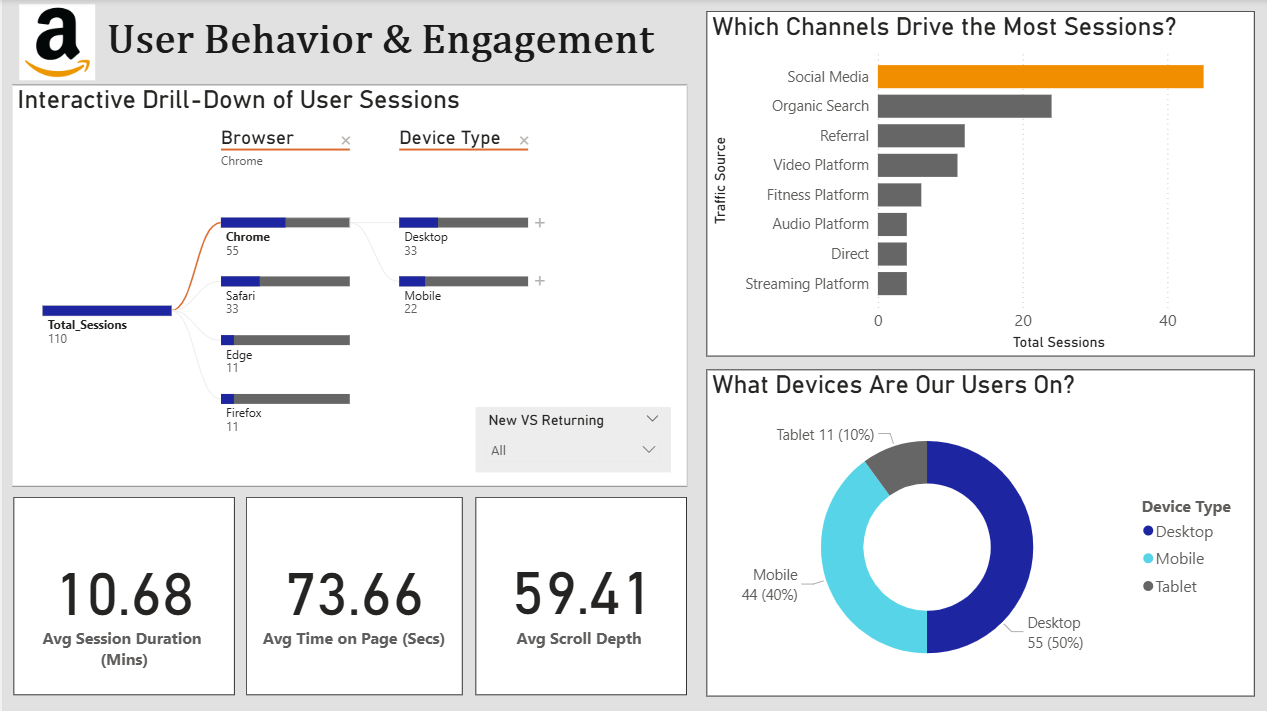

What the dashboard file says about the page in this screenshot:
{"tool":"powerbi","page":{"name":"User Behaviour and Engagement","canvas":[1280,720],"ordinal":1},"visuals":[{"type":"textbox","box":[100,11.7,590,60],"z":0},{"type":"card","fields":{"Values":["_Key Measures.Avg_page_time"]},"box":[245,503.3,218.3,200],"z":1000},{"type":"card","fields":{"Values":["_Key Measures.Avg_Scroll_Depth"]},"box":[477,502.7,213.5,199.9],"z":2000},{"type":"barChart","title":"Which Channels Drive the Most Sessions?","fields":{"Category":["Sessions.traffic_source"],"Y":["_Key Measures.No_of_sessions"]},"box":[710,11.7,553.3,348.3],"z":3000},{"type":"donutChart","title":"What Devices Are Our Users On?","fields":{"Y":["_Key Measures.Total_Sessions"],"Series":["Sessions.device_type"]},"box":[710,373.3,553.3,330],"z":4000},{"type":"decompositionTreeVisual","title":"Interactive Drill-Down of User Sessions","fields":{"Analyze":["_Key Measures.Total_Sessions"],"ExplainBy":["Sessions.browser","Sessions.device_type","Sessions.traffic_source","Sessions.new_vs_returning"]},"box":[9.1,86.3,681.4,405.8],"z":5000},{"type":"card","fields":{"Values":["_Key Measures.Avg Session Duration (Mins)"]},"box":[10,503.3,223.3,200],"z":6000},{"type":"image","box":[8.3,0,91.7,86.7],"z":7000},{"type":"slicer","fields":{"Values":["Sessions.new_vs_returning"]},"box":[477.6,411.7,197.6,65.9],"z":8000}]}

Visuals, with their boxes in screenshot pixels (x1, y1, x2, y2), scaled from the page's 1280x720 canvas onto the 1267x711 screenshot:
textbox: left=99, top=12, right=683, bottom=71
card - _Key Measures.Avg_page_time: left=243, top=497, right=459, bottom=695
card - _Key Measures.Avg_Scroll_Depth: left=472, top=496, right=683, bottom=694
"Which Channels Drive the Most Sessions?" barChart: left=703, top=12, right=1250, bottom=356
"What Devices Are Our Users On?" donutChart: left=703, top=369, right=1250, bottom=695
"Interactive Drill-Down of User Sessions" decompositionTreeVisual: left=9, top=85, right=683, bottom=486
card - _Key Measures.Avg Session Duration (Mins): left=10, top=497, right=231, bottom=695
image: left=8, top=0, right=99, bottom=86
slicer - Sessions.new_vs_returning: left=473, top=407, right=668, bottom=472
